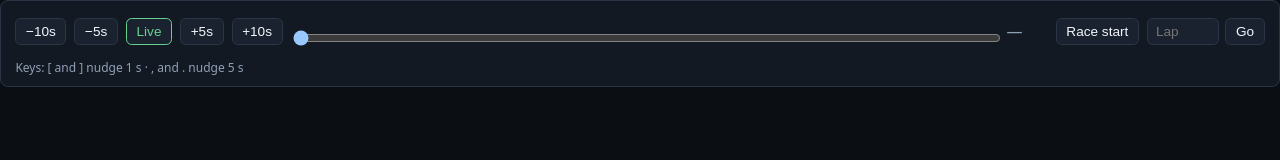
Scenario: TransportBar -- live, real useLiveTimeTarget (regression: stale range() at click time) › Live sets the delay to exactly 0 even when clicked well after the last render, and the readout reflects it
The width and height of the screenshot is (1280, 160).
Click the button "Live".
click(149, 31)  # box 126,18 -> 172,45
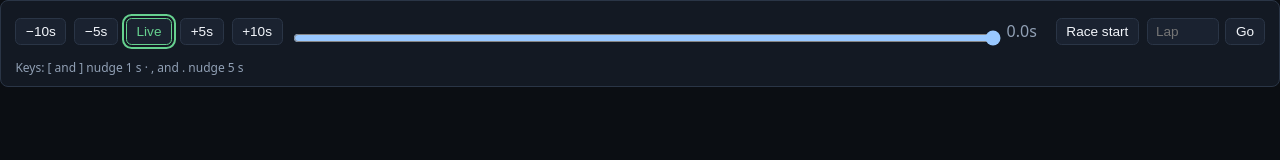
Check: the text "0.0s" is shown, box 1007,20 -> 1037,42
